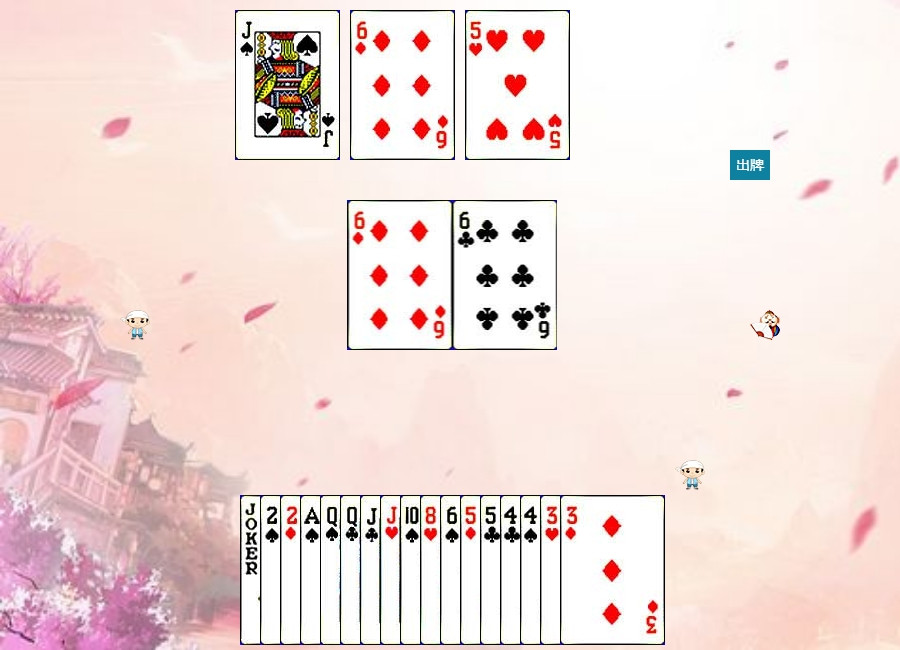10~4: (400, 495, 505, 645)
11~2: (360, 495, 465, 645)
11~3: (380, 495, 485, 645)
11~4: (235, 10, 340, 160)
12~2: (340, 495, 445, 645)
12~4: (320, 495, 425, 645)
14~4: (300, 495, 405, 645)
15~1: (280, 495, 385, 645)
15~4: (260, 495, 365, 645)
17~3: (240, 495, 345, 645)
3~1: (560, 495, 665, 645)
3~3: (540, 495, 645, 645)
4~2: (500, 495, 605, 645)
4~4: (520, 495, 625, 645)
5~1: (460, 495, 565, 645)
5~2: (480, 495, 585, 645)
5~3: (465, 10, 570, 160)
6~1: (350, 10, 455, 160), (348, 200, 453, 350)
6~2: (453, 200, 558, 350)
6~4: (440, 495, 545, 645)
8~3: (420, 495, 525, 645)
